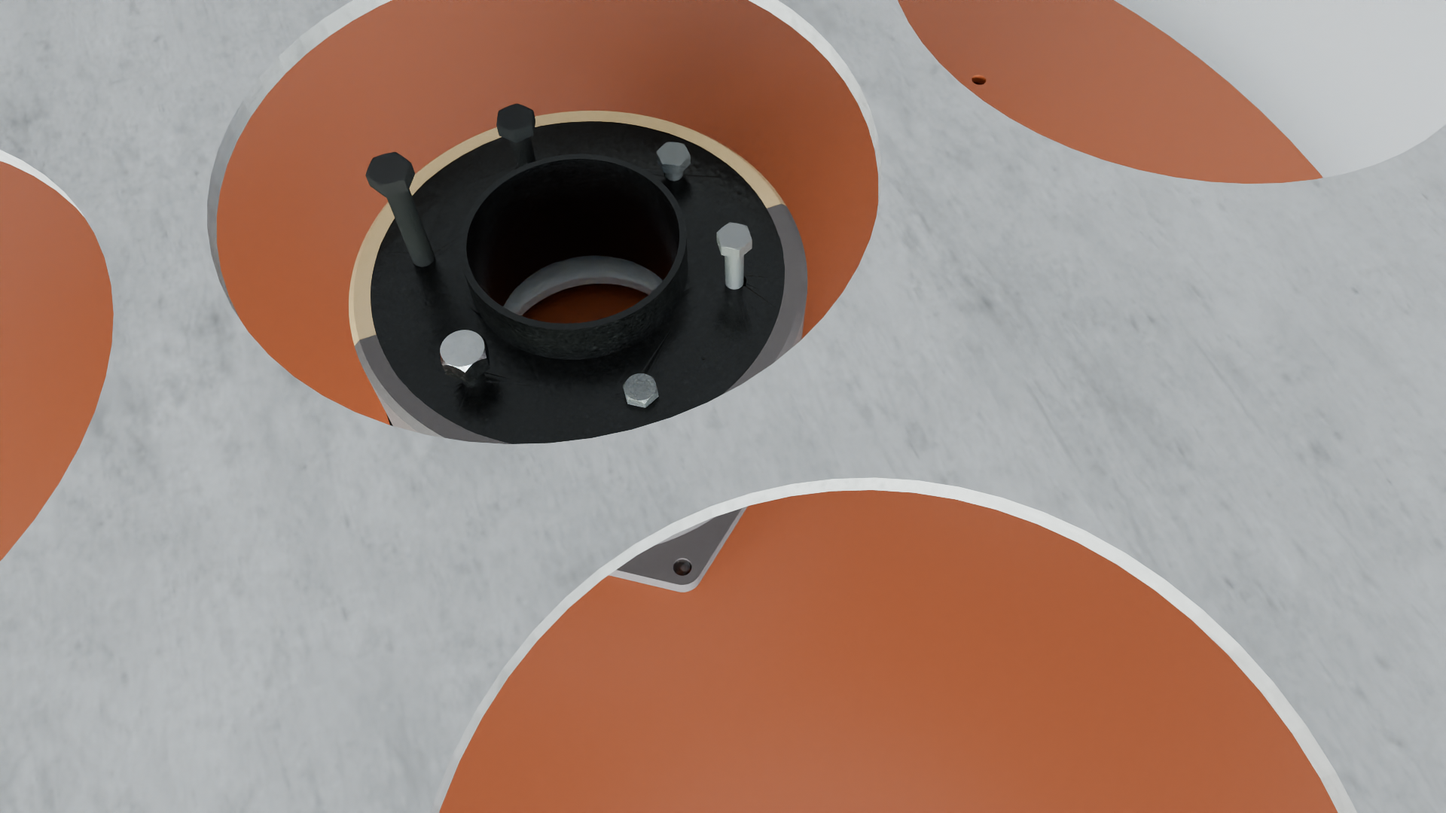bolt: (440, 330, 487, 373), (365, 152, 411, 187), (623, 373, 658, 404), (496, 103, 533, 132), (717, 222, 752, 251), (656, 142, 691, 166)
